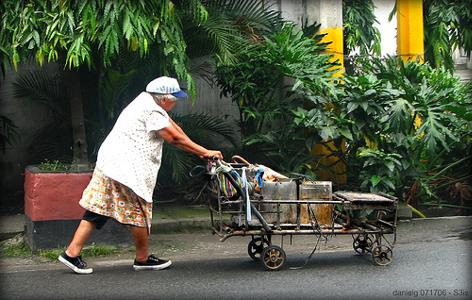person: (57, 76, 227, 275)
